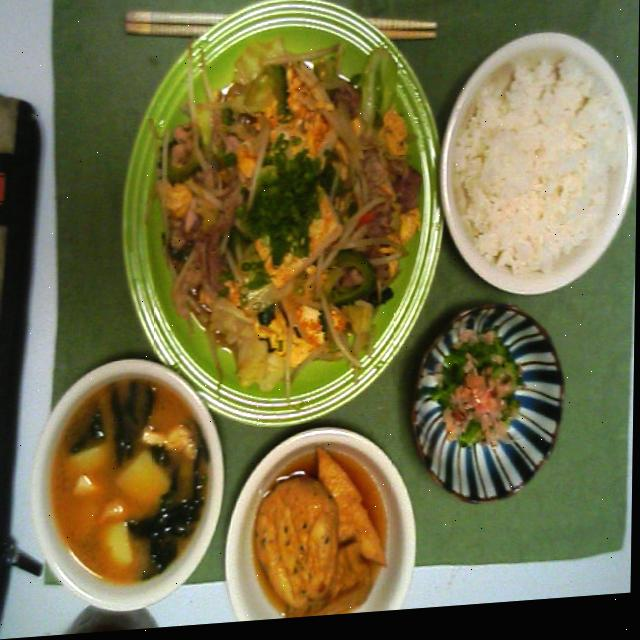熟制海鲜: (235, 463, 367, 626)
